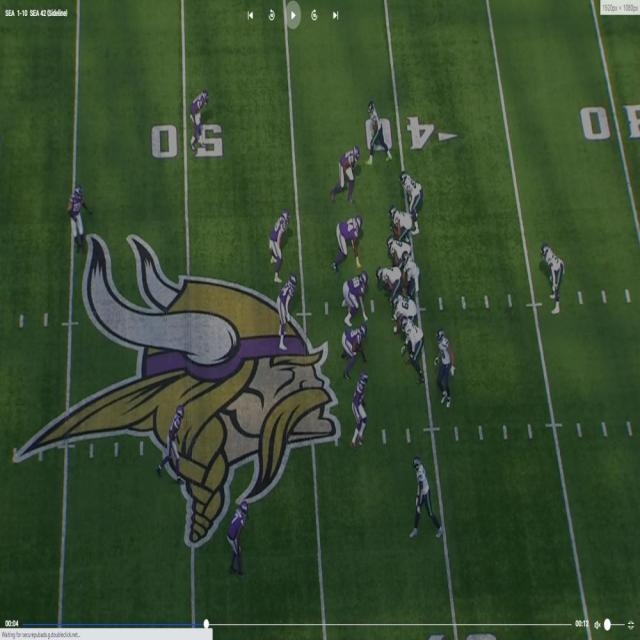center: (375, 265, 399, 308)
db: (167, 402, 186, 476), (229, 501, 248, 570), (190, 89, 211, 148), (71, 181, 88, 246)
lb: (272, 208, 290, 280), (277, 280, 295, 348), (352, 371, 367, 443)
qb: (403, 250, 418, 302)
skill: (539, 242, 564, 318), (414, 454, 436, 530), (436, 330, 454, 410), (400, 171, 422, 213), (365, 102, 382, 154)
